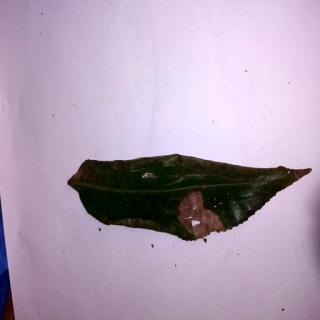Anthracnose: (73, 151, 315, 241)
